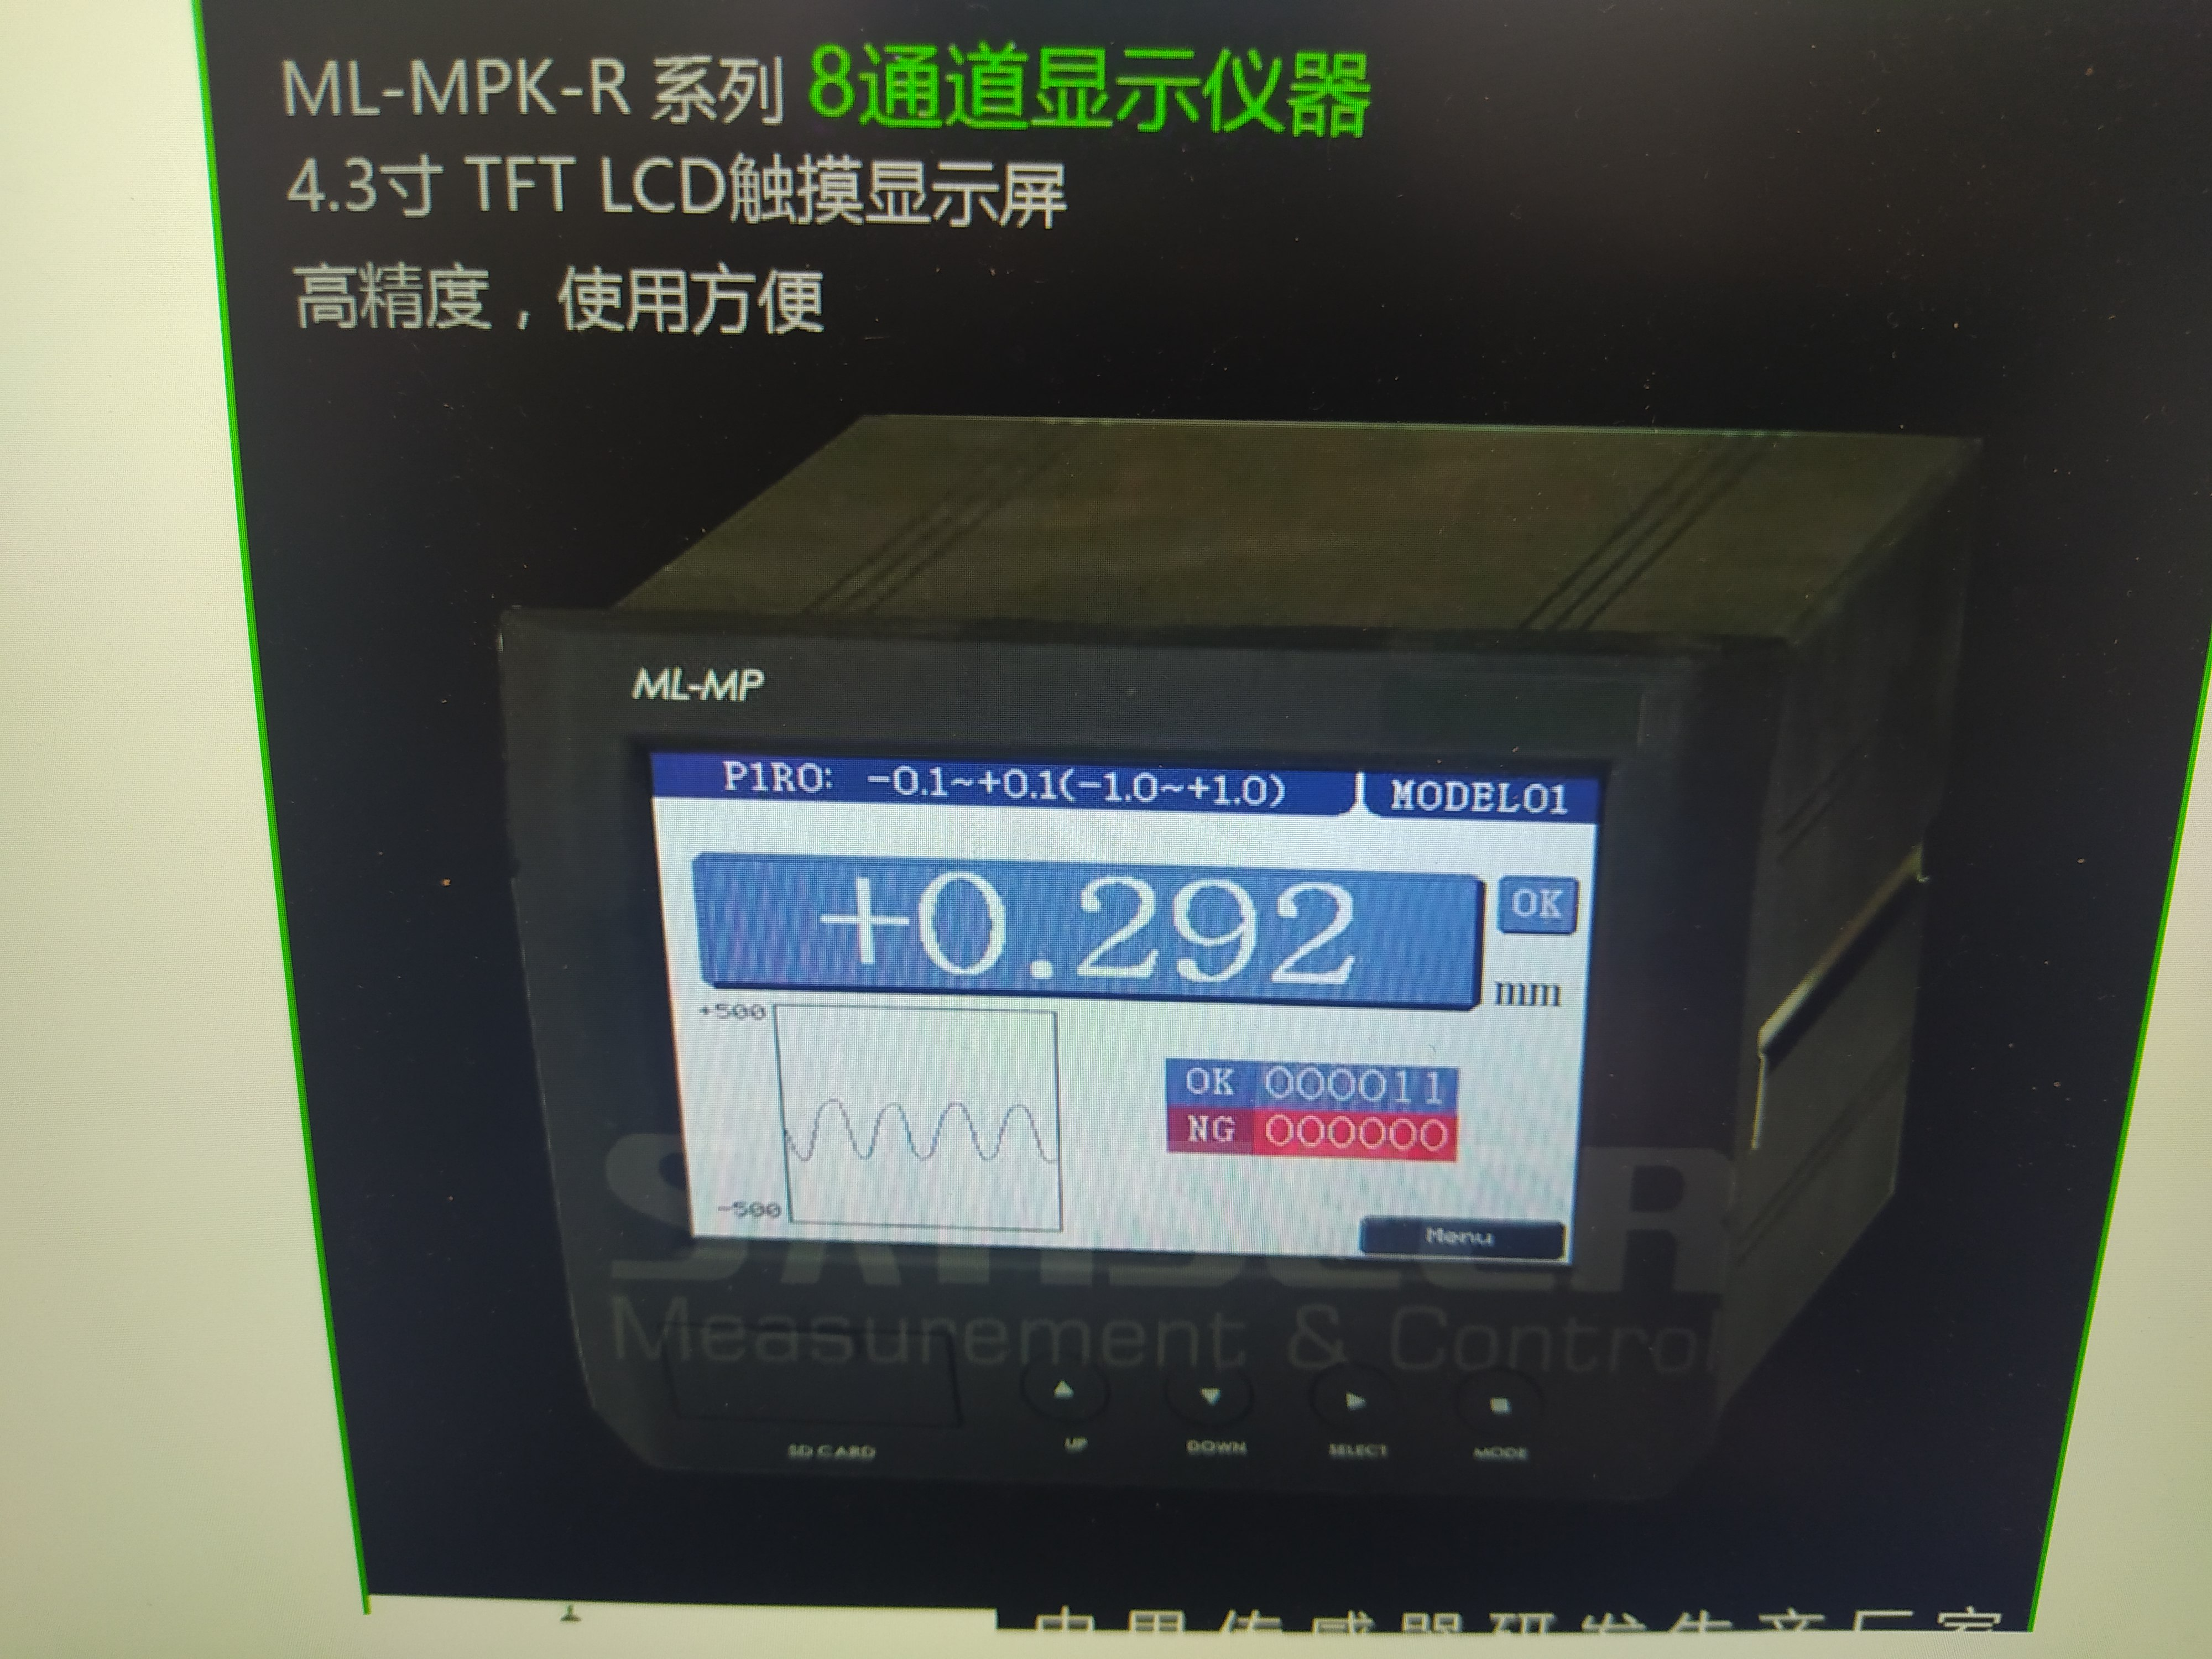.: (1024, 870, 1055, 981), (322, 150, 347, 220), (1028, 767, 1040, 805), (918, 765, 932, 798), (1228, 772, 1242, 805), (1123, 770, 1134, 805)
0: (916, 866, 1008, 981), (1355, 1063, 1386, 1107), (1418, 1117, 1451, 1157), (1264, 1112, 1296, 1152), (1325, 1065, 1353, 1107), (1357, 1117, 1386, 1155), (1325, 1114, 1353, 1154), (1266, 1066, 1296, 1103), (1296, 1115, 1325, 1152), (1390, 1117, 1418, 1155), (1296, 1066, 1324, 1103), (892, 763, 920, 798), (1003, 765, 1026, 803), (1242, 772, 1264, 809), (1136, 770, 1158, 805)
1: (1392, 1066, 1414, 1110), (1425, 1065, 1446, 1110), (1103, 770, 1123, 803), (1040, 769, 1057, 803), (934, 767, 949, 800), (1214, 774, 1228, 807)
2: (1073, 866, 1162, 985), (1271, 875, 1355, 992)
3: (347, 150, 380, 218)
4: (287, 153, 326, 218)
8: (798, 35, 852, 125)
9: (1176, 873, 1254, 988)
